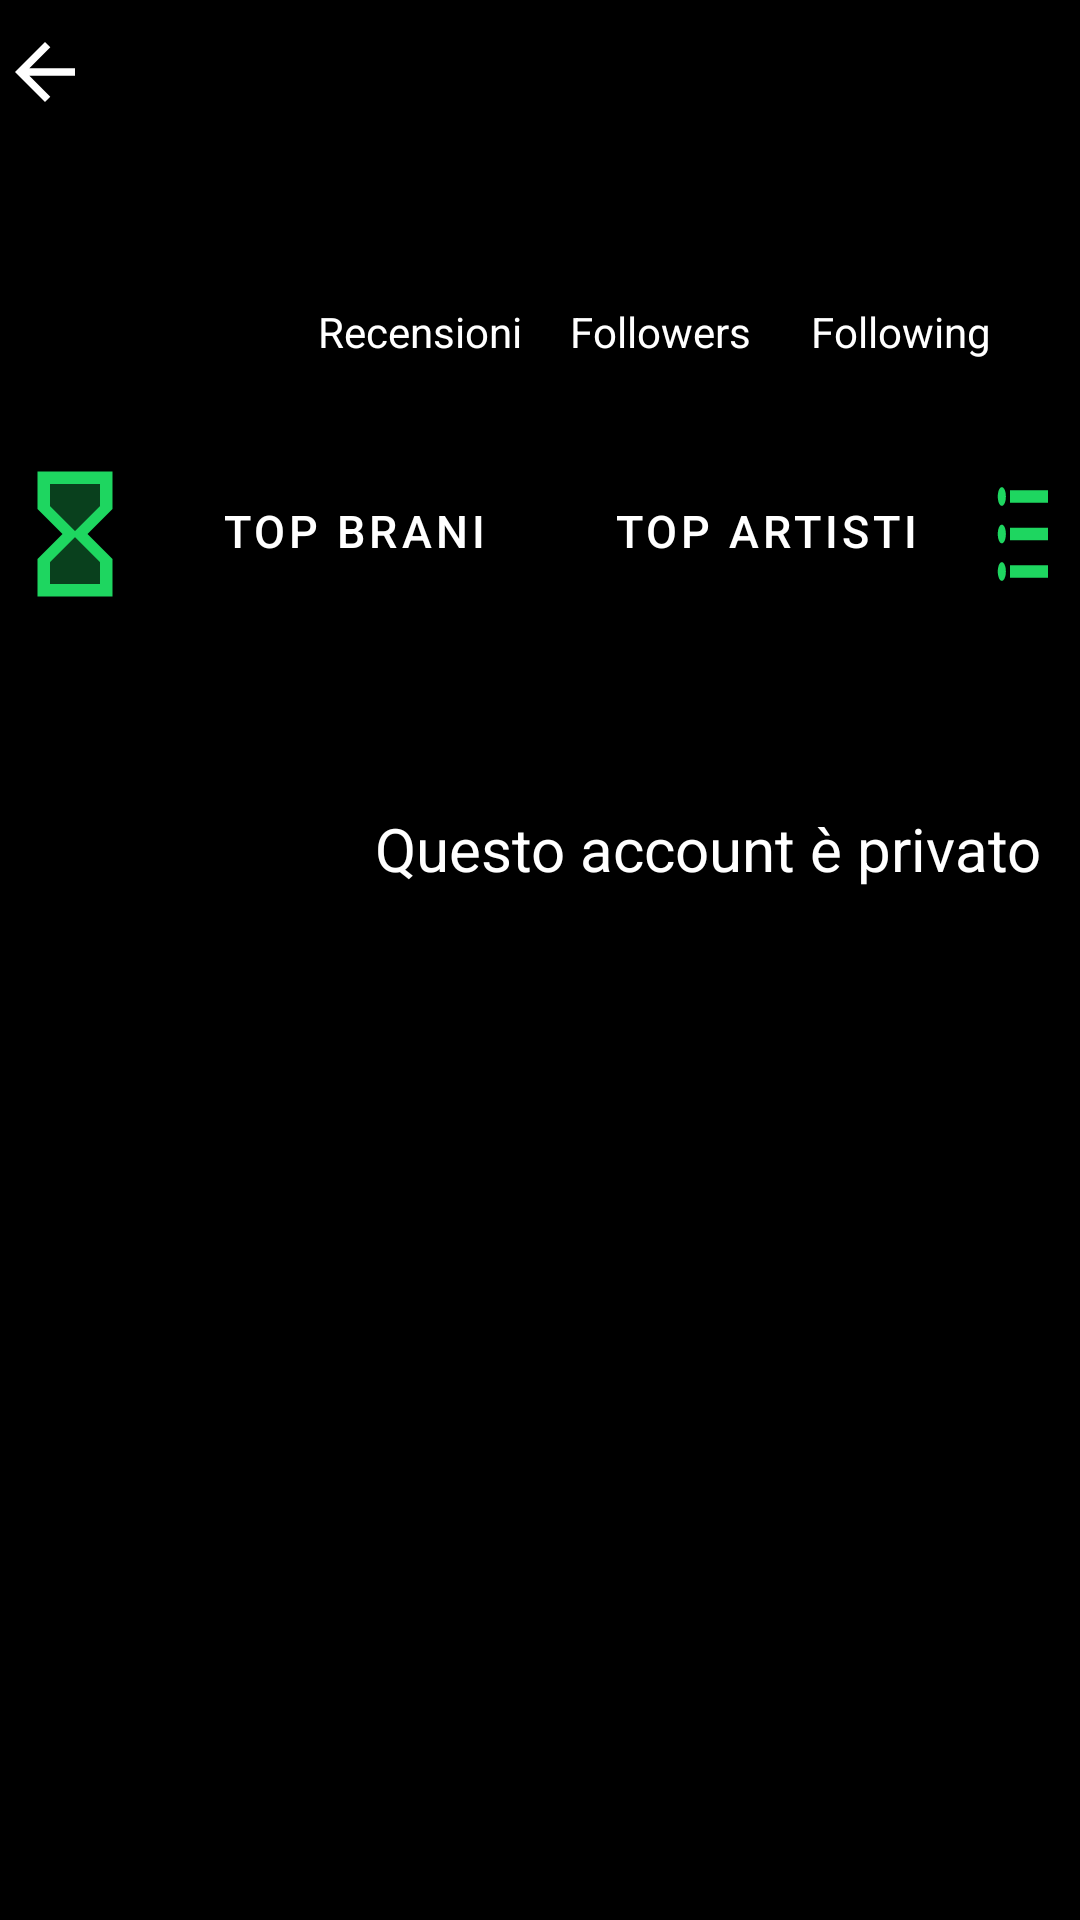

Icons on this 1080w x 1920h Android screen, each with the point to tap as [x,y]:
arrow back: [45,72]
Clessidra: [75,534]
